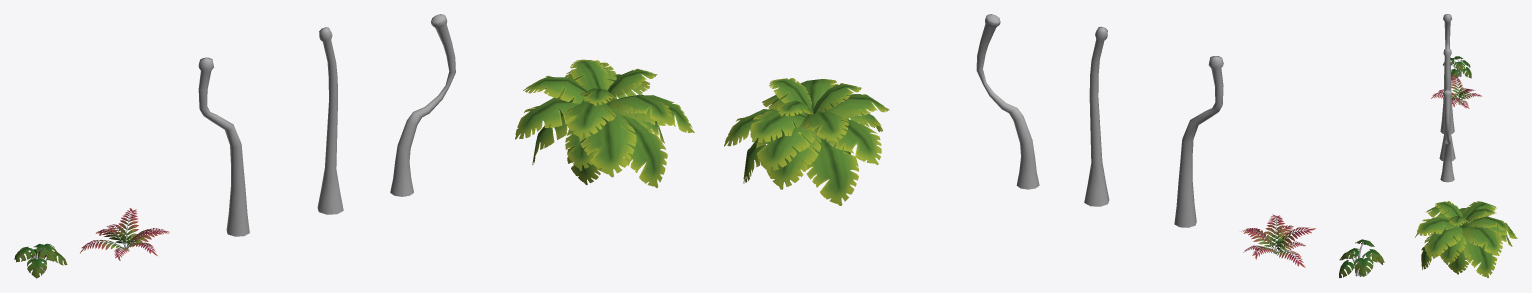
File: plants and trees combined.fbx
3 views of the same model, side by side, from view 1: azimuth 30°, elevation 25°; view 2: azimuth 150°, elevation 25°; view 3: azimuth 270°, elevation 25° (orthographic). The views are drawn at different scales.
Parts seen in each view (by area): view 1: palm_leavs_combined, tree_trunk_curve_L, tree_trunk_straight, tree_trunk_curve_R, frond_leaves_combined, monstera_leaves_combined; view 2: palm_leavs_combined, tree_trunk_curve_L, tree_trunk_straight, tree_trunk_curve_R, frond_leaves_combined, monstera_leaves_combined; view 3: palm_leavs_combined, tree_trunk_curve_R, frond_leaves_combined, tree_trunk_straight, tree_trunk_curve_L, monstera_leaves_combined.
Boxes of the visible parts, x1,y1,x2,y2 form: palm_leavs_combined: (515,59,694,188); tree_trunk_curve_L: (198,57,249,236); tree_trunk_straight: (317,27,343,214); tree_trunk_curve_R: (390,14,455,196); frond_leaves_combined: (80,208,169,260); monstera_leaves_combined: (14,243,67,278); palm_leavs_combined: (724,78,889,205); tree_trunk_curve_L: (1174,56,1223,227); tree_trunk_straight: (1084,26,1109,206); tree_trunk_curve_R: (976,14,1039,189); frond_leaves_combined: (1241,214,1315,267); monstera_leaves_combined: (1339,239,1384,278); palm_leavs_combined: (1415,201,1517,277); tree_trunk_curve_R: (1440,89,1454,182); frond_leaves_combined: (1431,75,1482,108); tree_trunk_straight: (1439,48,1455,160); tree_trunk_curve_L: (1440,14,1454,133); monstera_leaves_combined: (1443,56,1471,79).
Size of the model in its own units: 1519 by 490 by 349.
